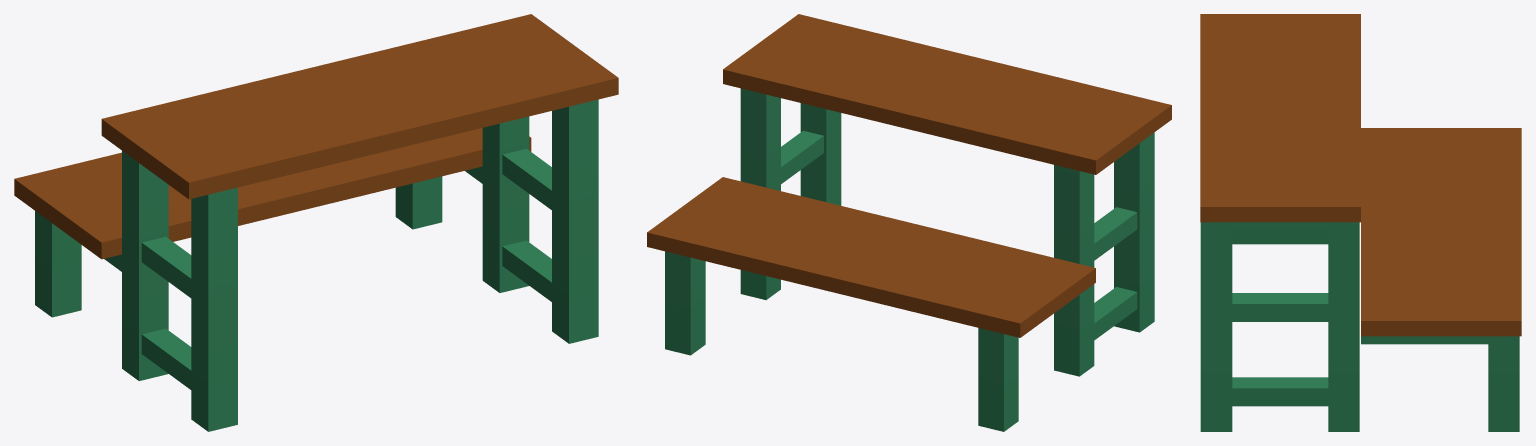
File: Bench_1_C_6.fbx
3 renders of one model, left to right at view 1: azimuth 30°, elevation 25°; view 2: azimuth 150°, elevation 25°; view 3: azimuth 270°, elevation 25°, orthographic. The views are drawn at different scales.
Visible parts, largest first — view 1: Bench_1_C_6; view 2: Bench_1_C_6; view 3: Bench_1_C_6.
Part boxes in pixels (x1=…): Bench_1_C_6: x1=14, y1=14, x2=618, y2=431; Bench_1_C_6: x1=647, y1=14, x2=1171, y2=431; Bench_1_C_6: x1=1200, y1=14, x2=1521, y2=431.
Size of the model in its own units: 116 by 65.4 by 81.37.
